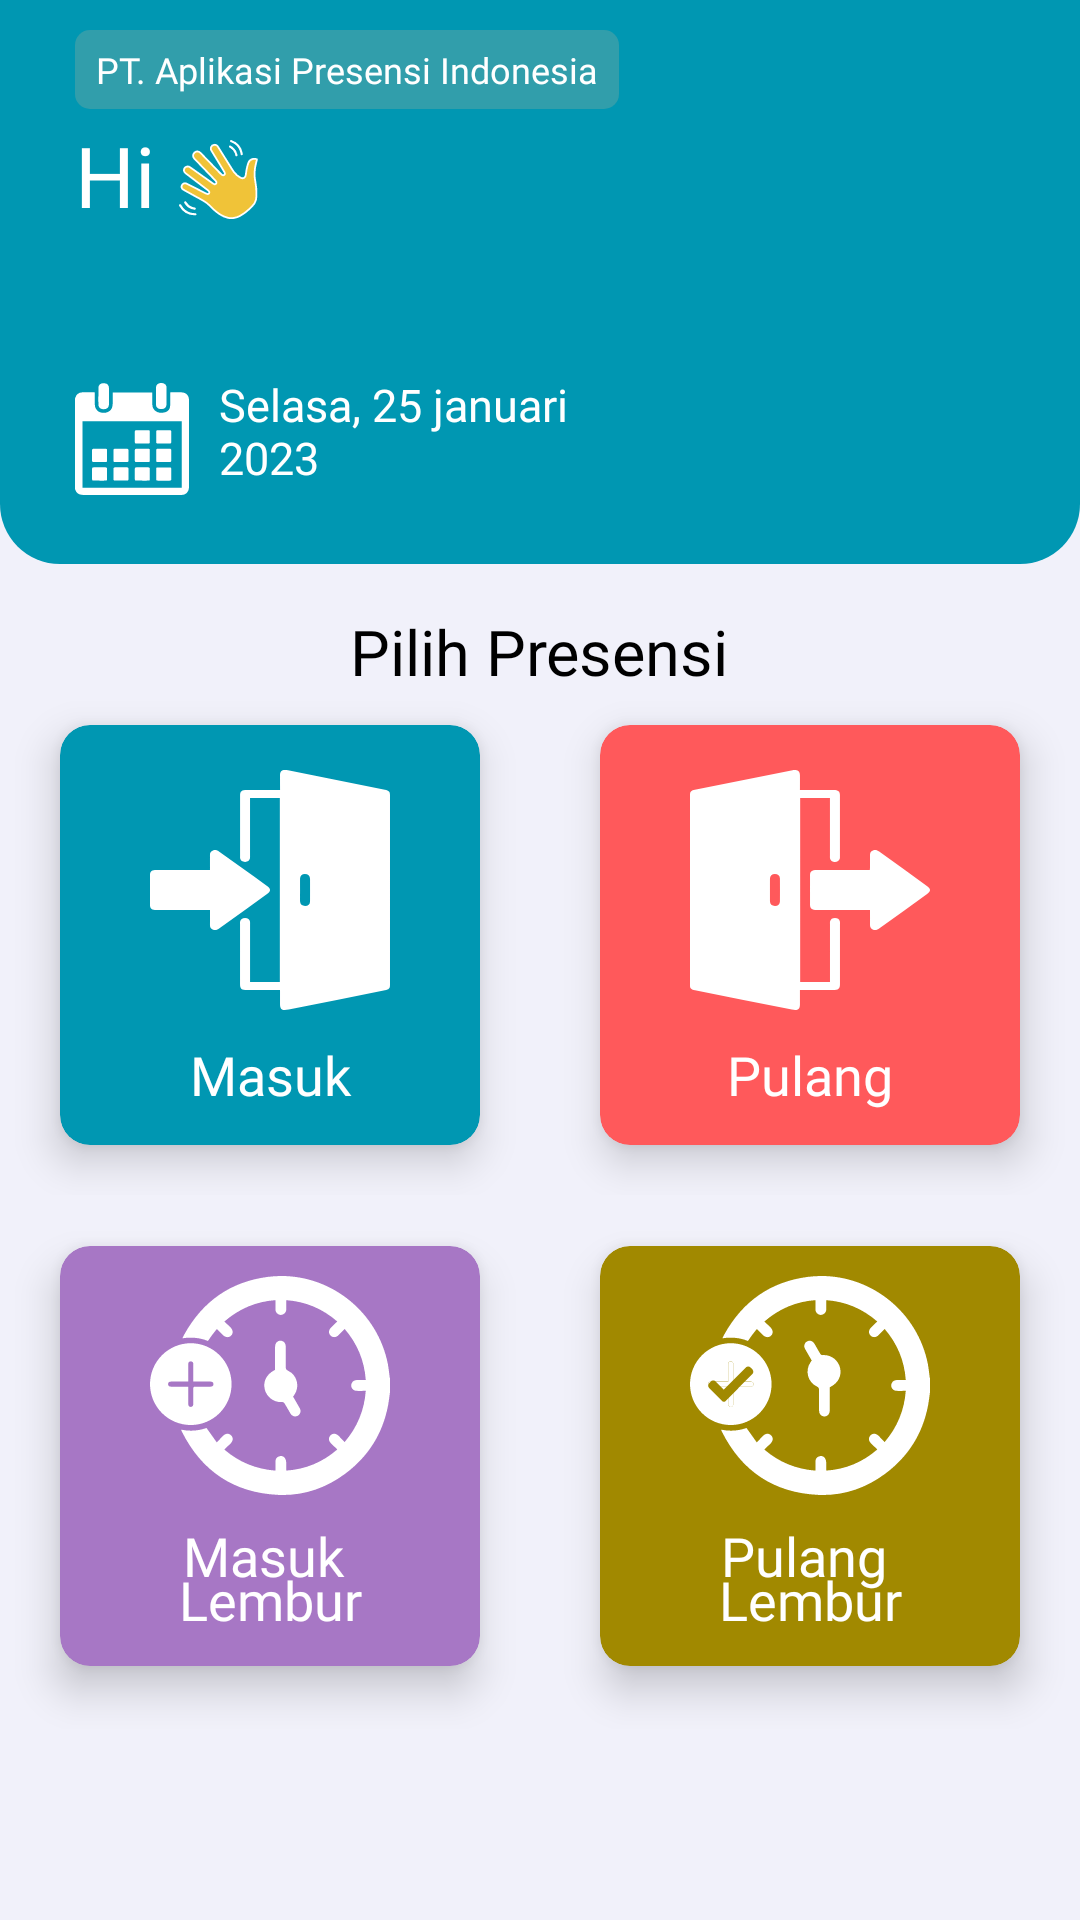

Screen size 1080px×1920px. Icon name, then its center in pixels as [x,y]:
calendar: [132,439]
